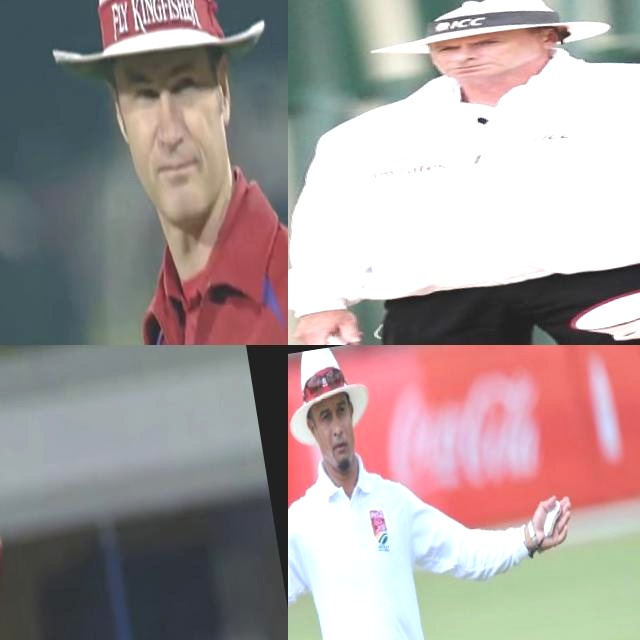No_Action: (288, 0, 640, 345), (23, 0, 288, 345)
Six: (0, 345, 157, 640)
Wide: (288, 345, 604, 640)
